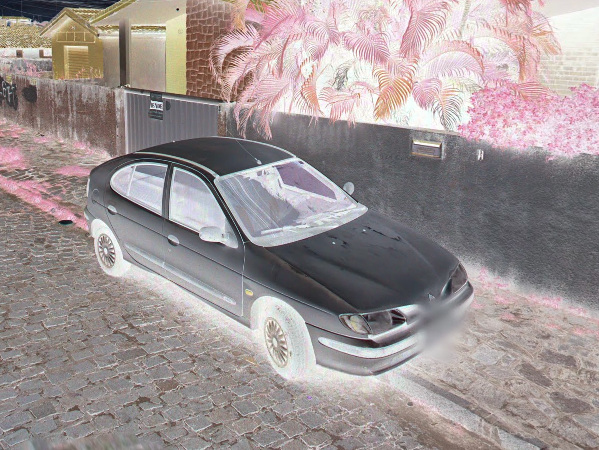car: (82, 128, 477, 385)
